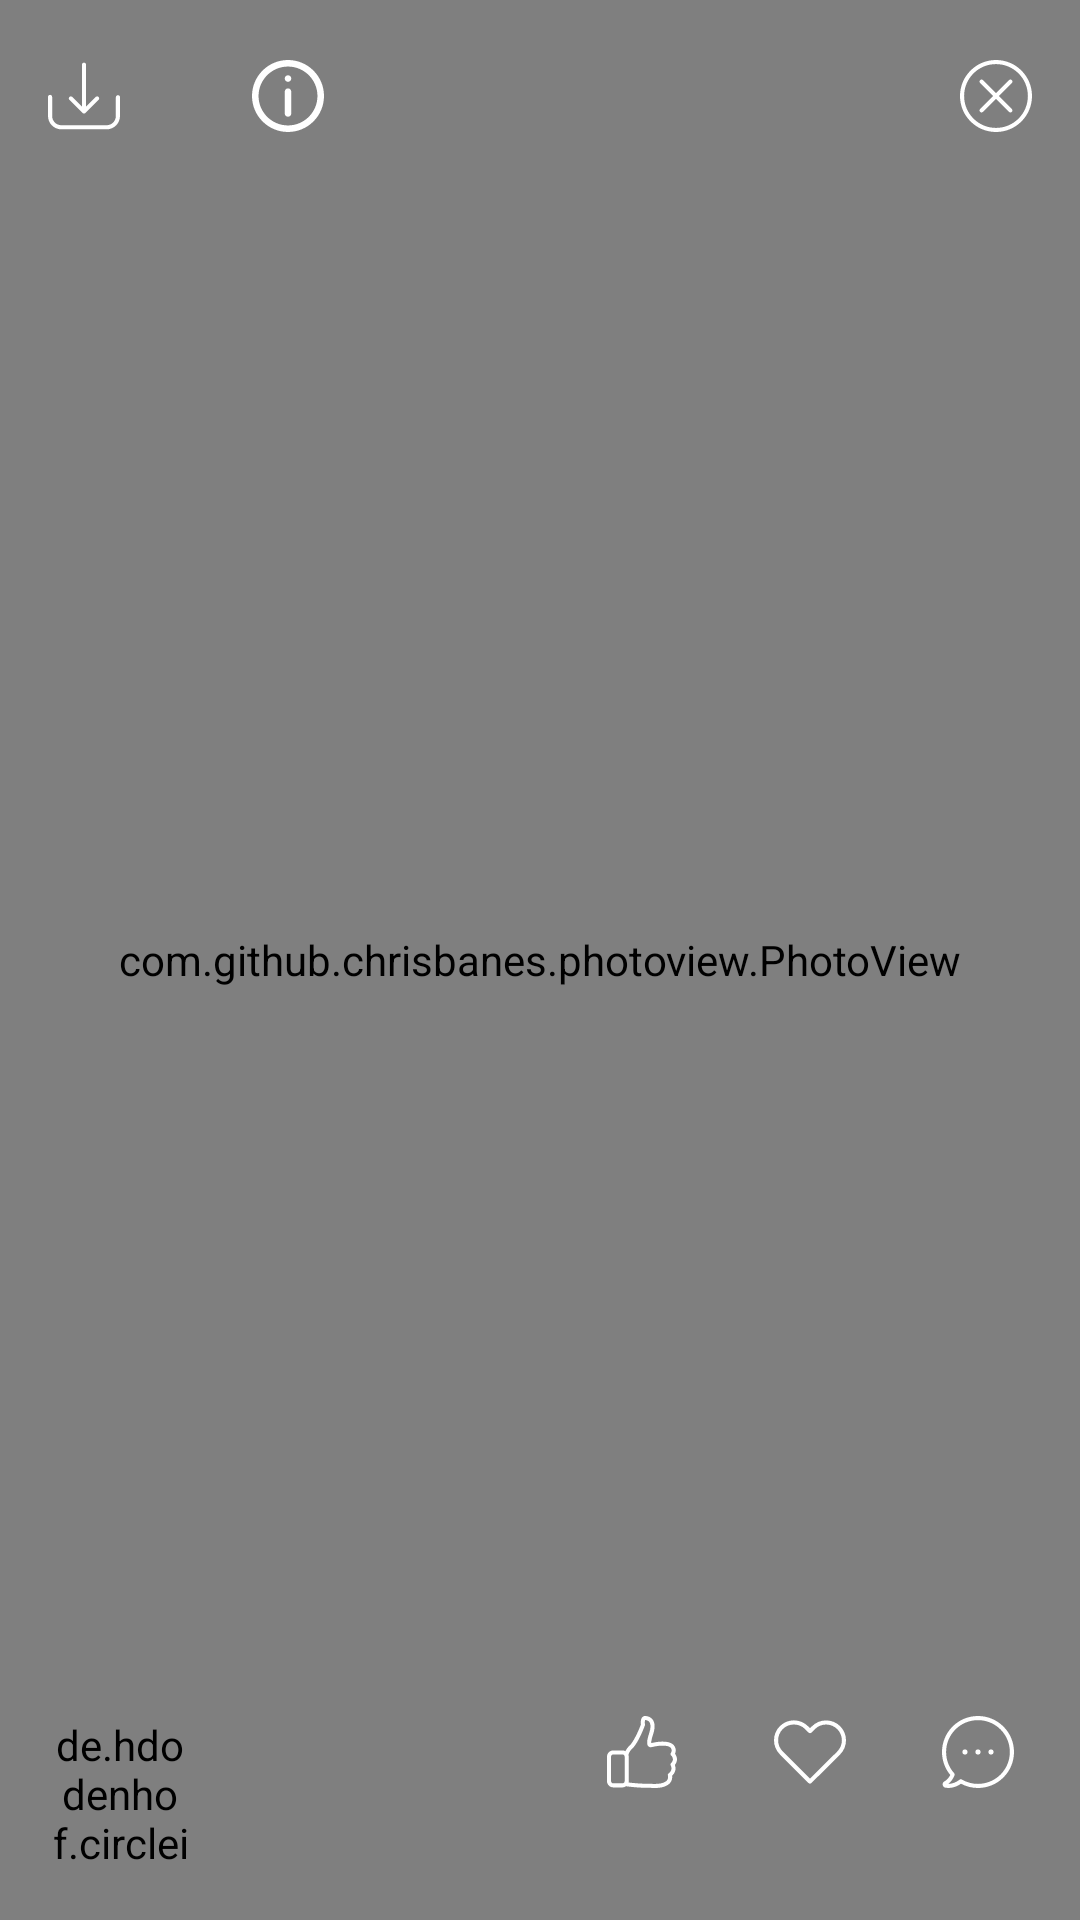

Where icons sit on this 1080px×1920px app screen, as (x1, y1, x2, y2):
close: (960, 60, 1032, 132)
comment: (942, 1716, 1014, 1788)
favourite: (774, 1720, 846, 1784)
info: (252, 60, 324, 132)
save: (48, 62, 120, 130)
thumb: (607, 1716, 677, 1788)
